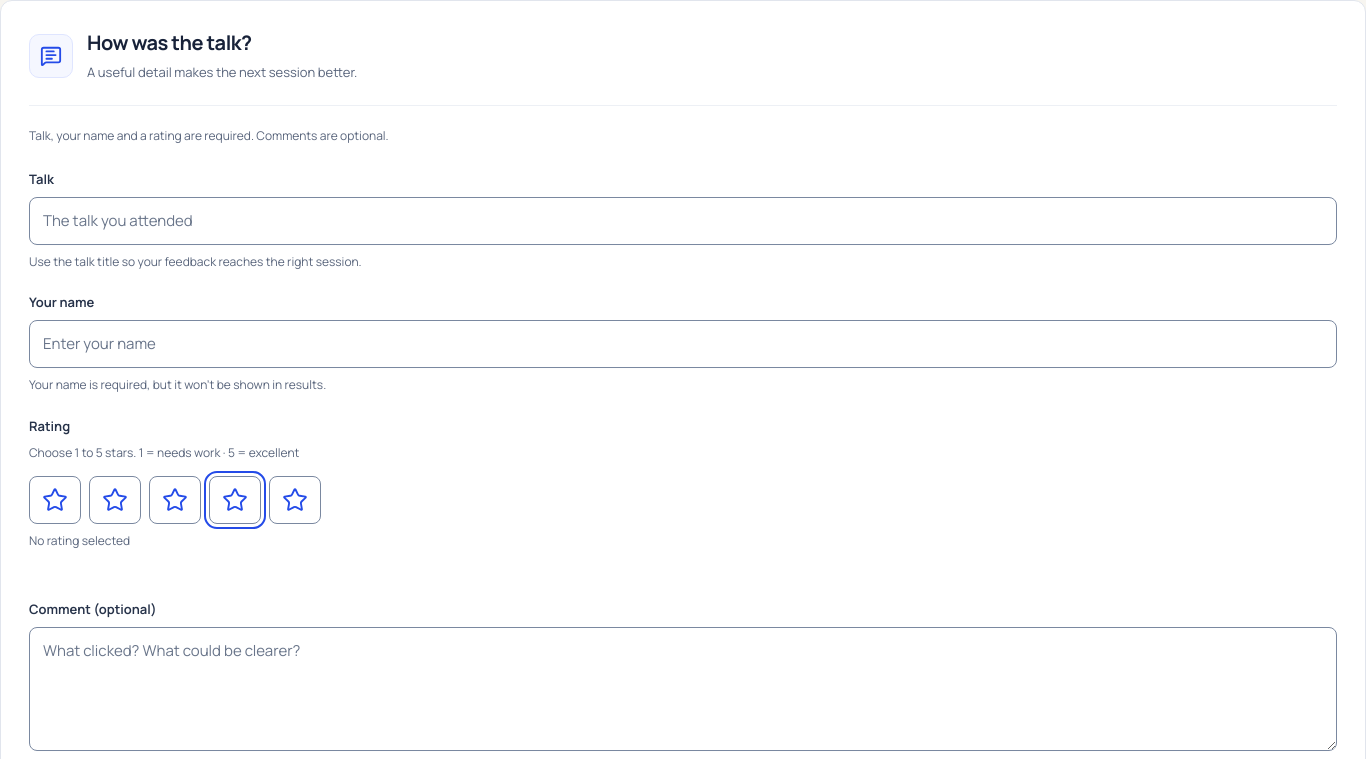
Scenario: keeps keyboard-selected star shapes until the pointer actually moves
The width and height of the screenshot is (1366, 759).
Later steps or results of the test are not shown.
Type keys " "
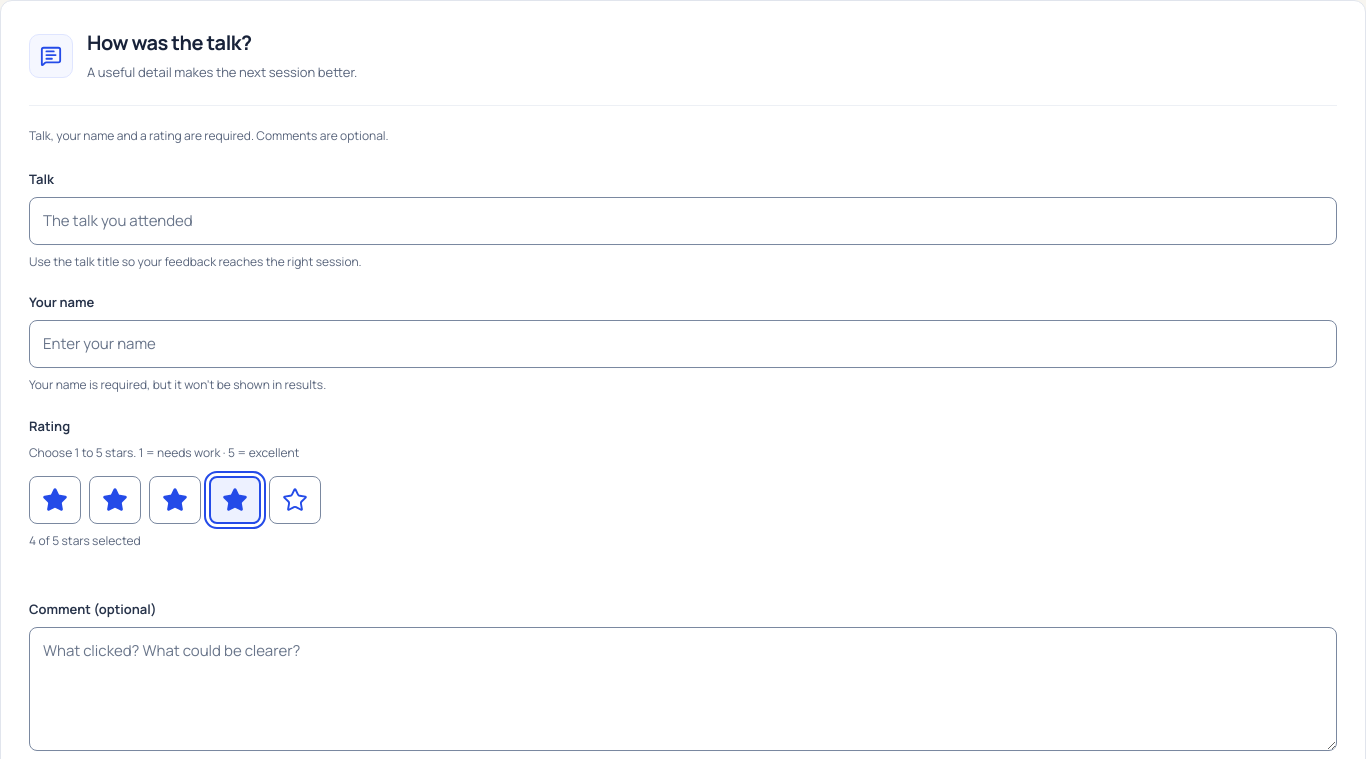
Expected: the radio button named "4 stars" is checked, [209,476,261,524]
Hover over the 3rd radio button named "3 stars" at (175, 500), box [149,476,201,524]
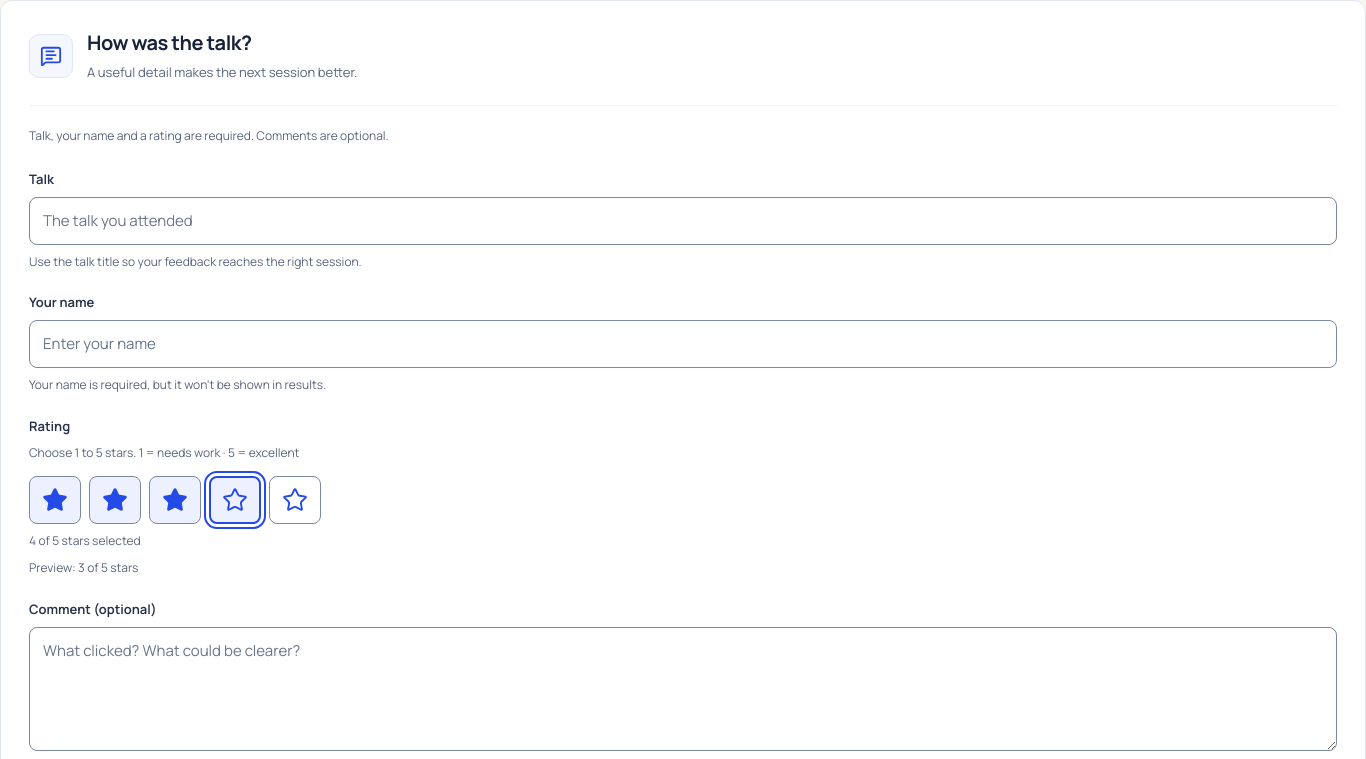
Expected: the text "4 of 5 stars selected" is shown, [29,532,141,549]
Expected: the radio button named "4 stars" is checked, [209,476,261,524]
Expected: the text "Preview: 3 of 5 stars" is shown, [29,559,138,576]
Press Arrowright
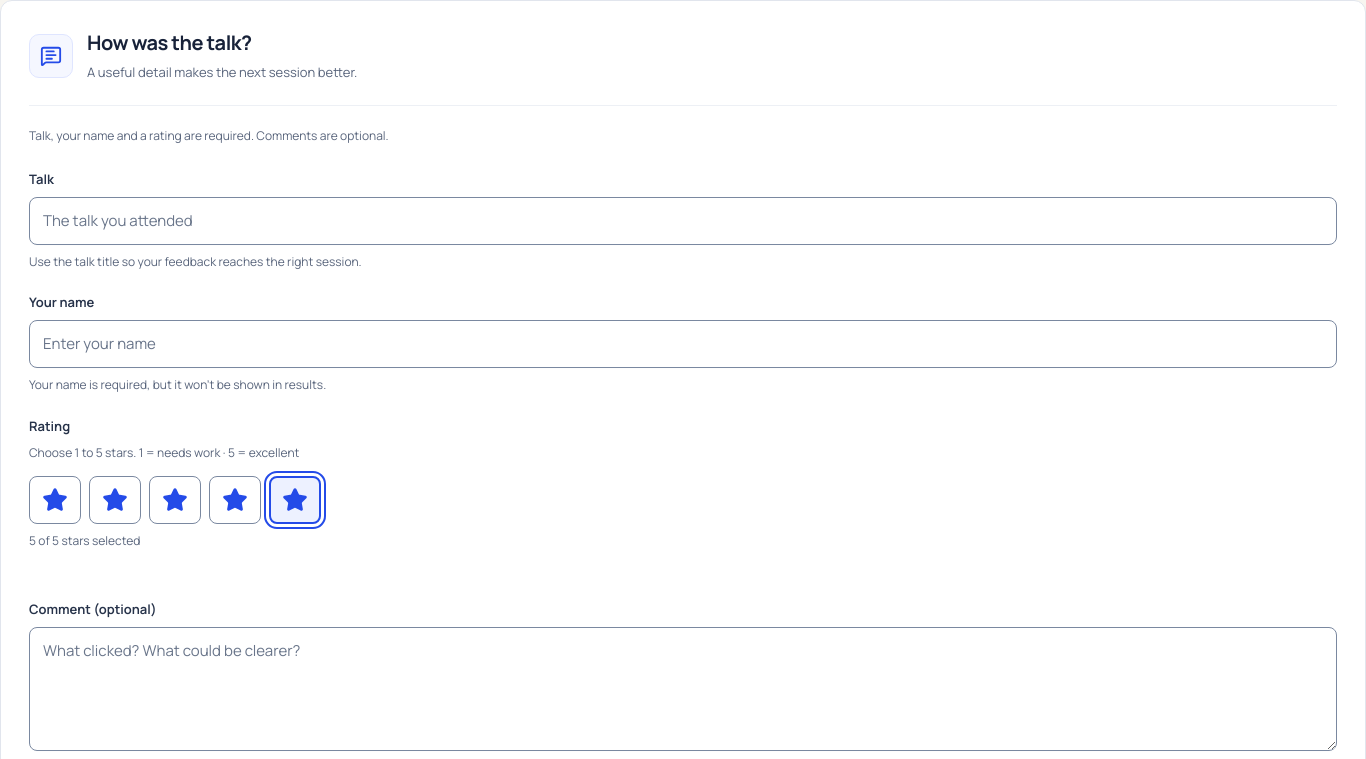
Expected: the radio button named "5 stars" is checked, [269,476,321,524]
Expected: the text "Preview:" is gone
